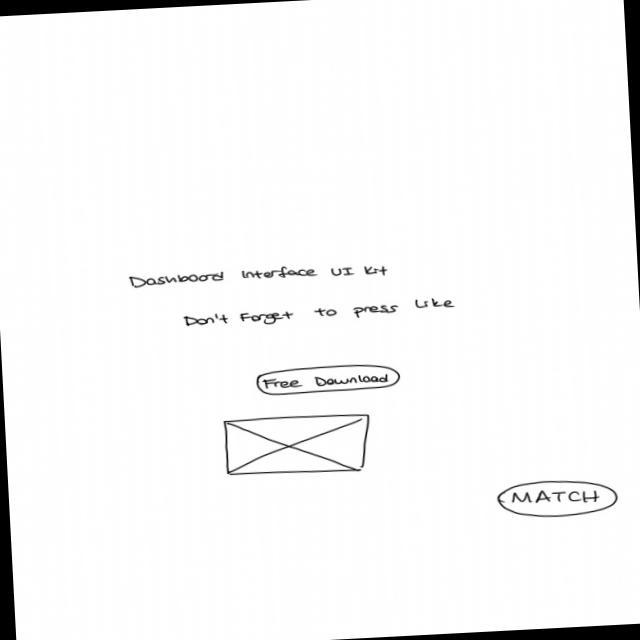button: (494, 476, 619, 521), (255, 361, 402, 397)
image: (222, 410, 372, 480)
label: (182, 294, 457, 330), (126, 259, 390, 290)
